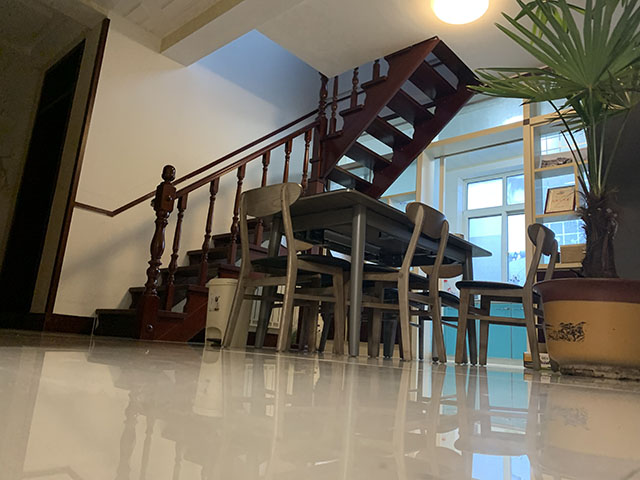stool: (221, 181, 351, 357), (332, 201, 450, 365), (454, 222, 560, 373), (382, 232, 466, 360)
table: (253, 187, 494, 367)
trashcan: (204, 275, 258, 350)
